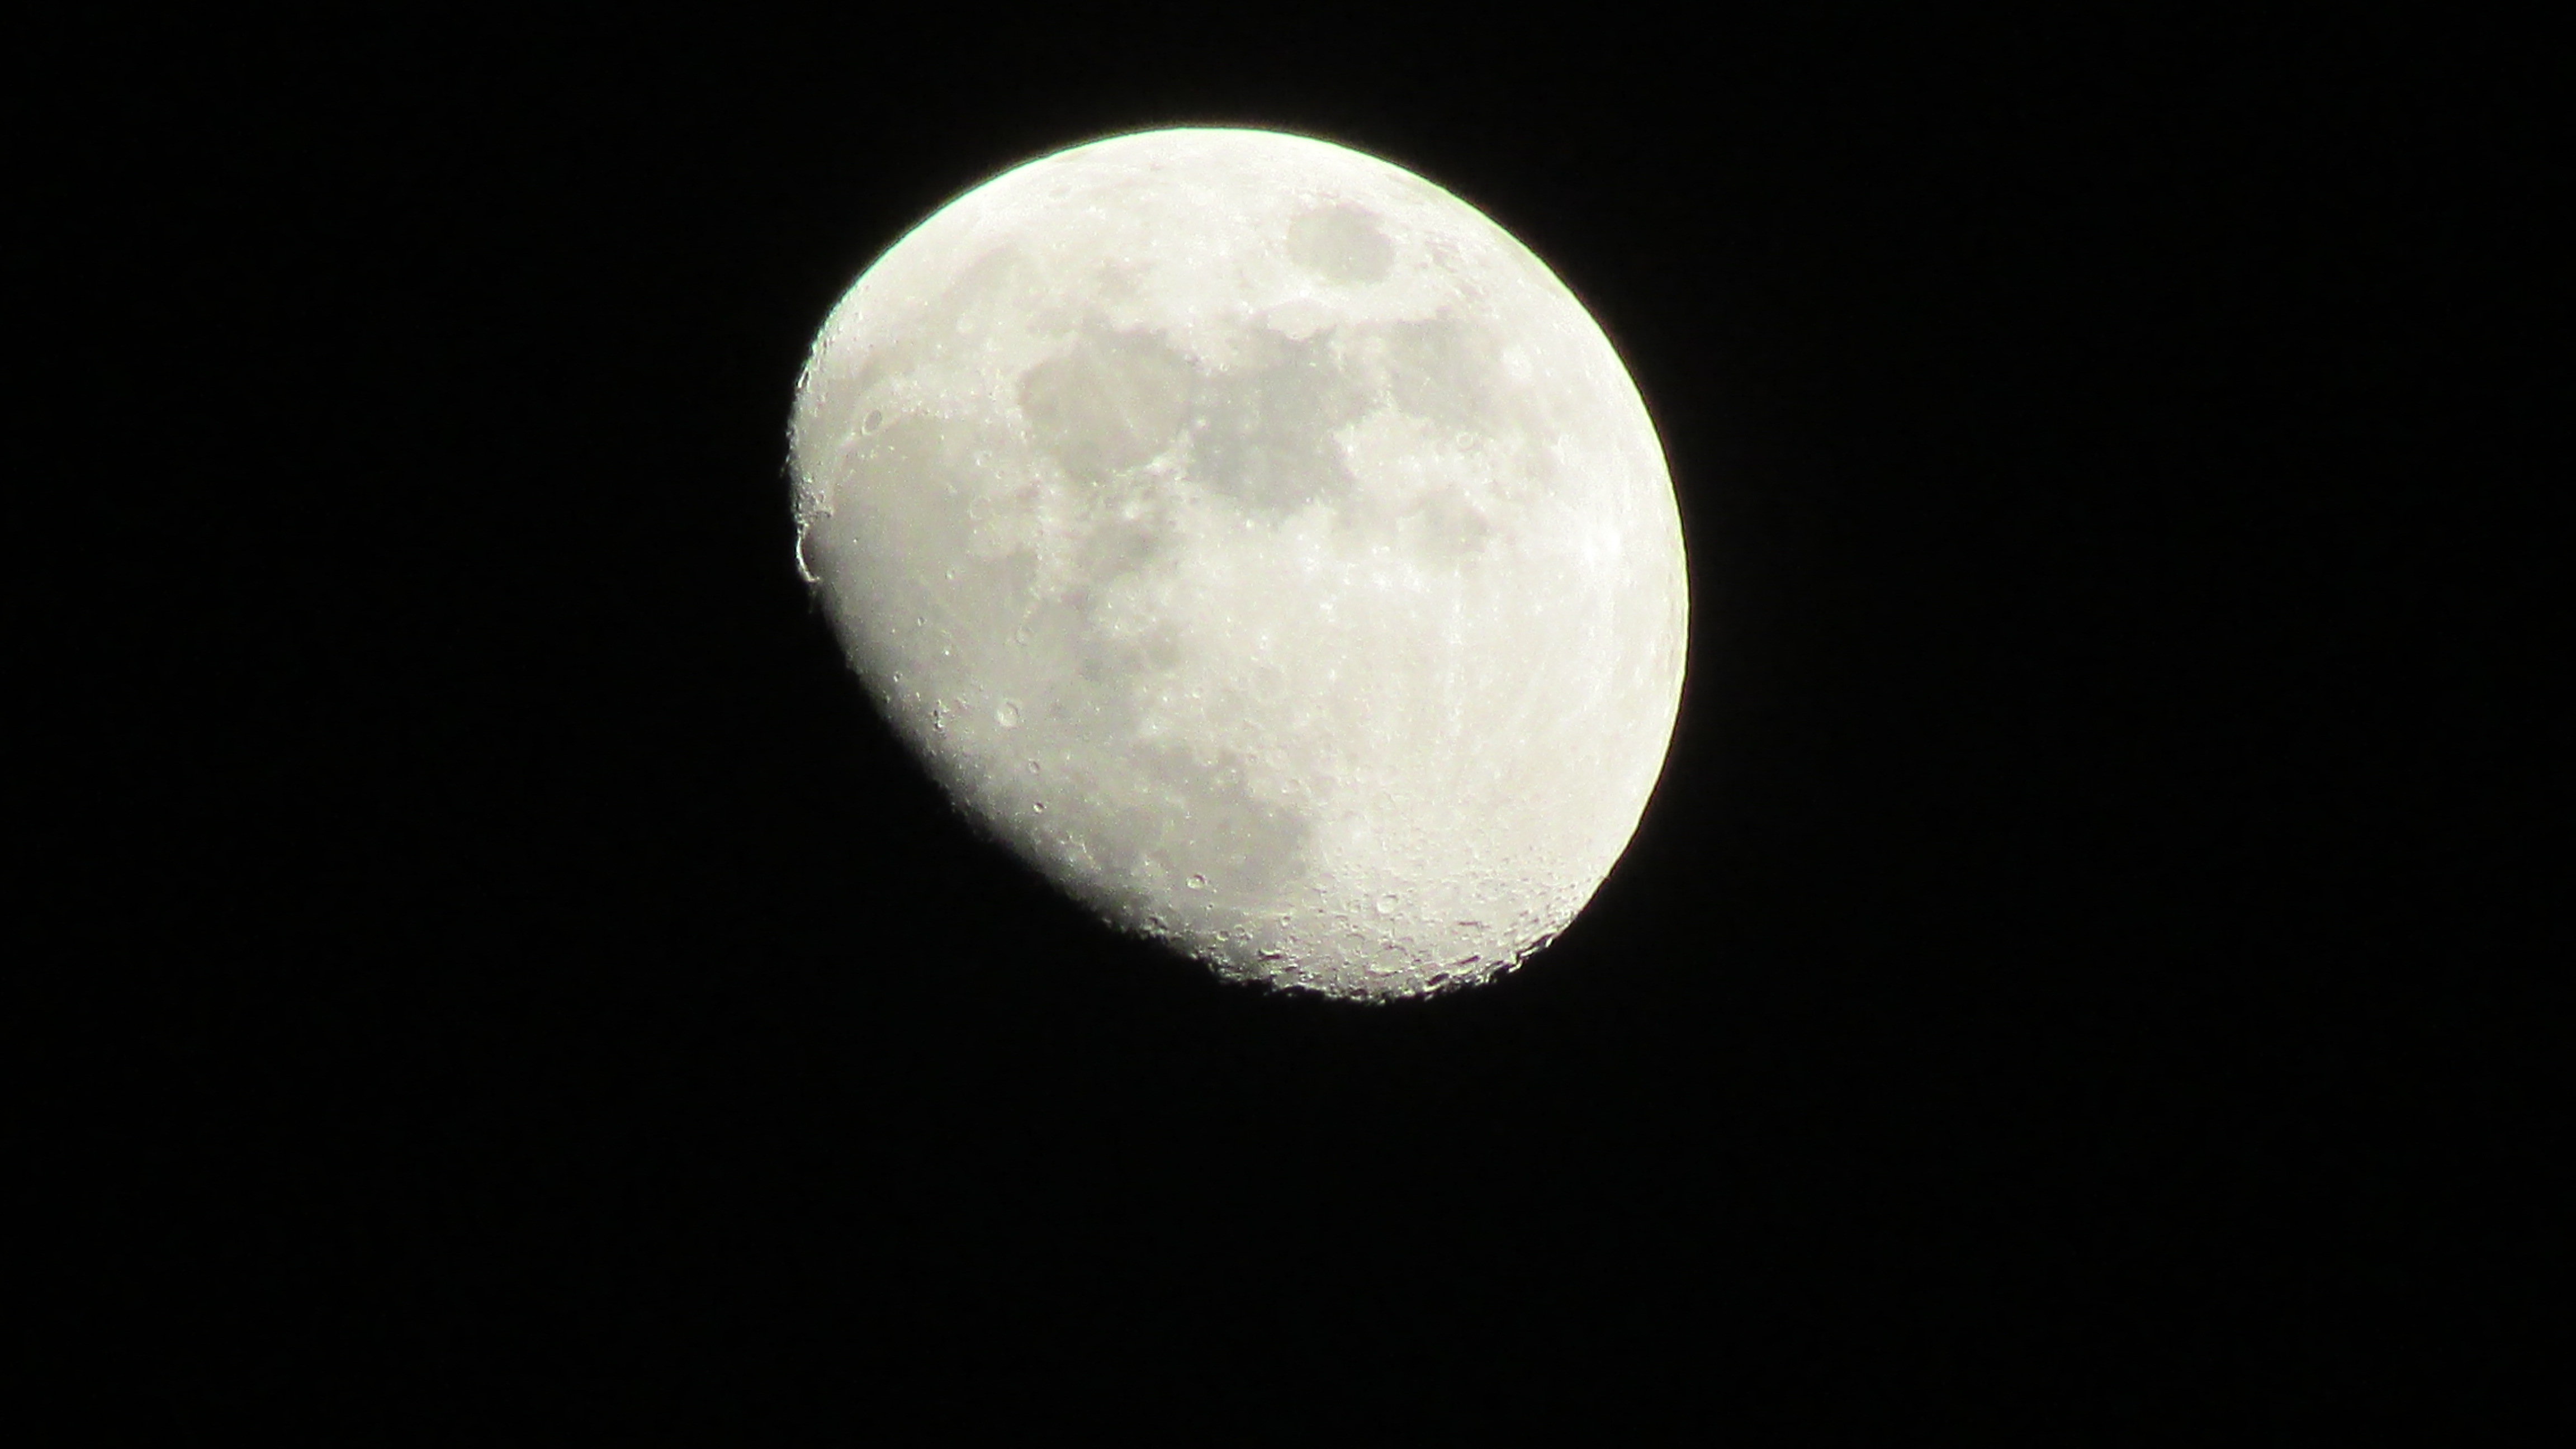crater: (948, 603, 1146, 777), (1242, 184, 1426, 304), (1355, 879, 1426, 924), (853, 391, 899, 446), (1177, 870, 1224, 906), (1238, 508, 1269, 540), (1417, 968, 1454, 991), (970, 442, 994, 467), (1194, 407, 1217, 433), (1261, 803, 1283, 826), (1223, 763, 1240, 778)
